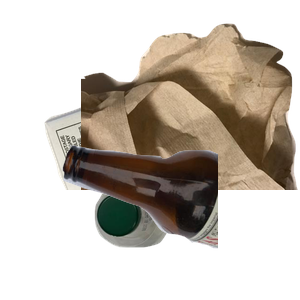glass: (60, 142, 300, 300)
paper: (42, 68, 275, 248)
plastic: (92, 176, 257, 300)
trash: (81, 21, 300, 201)
